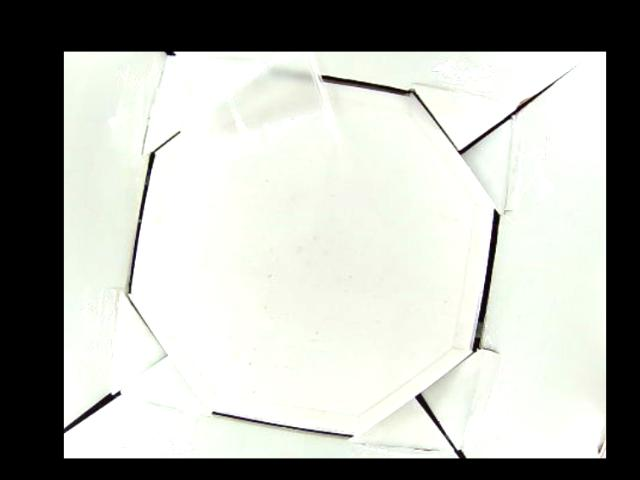Cup: (177, 52, 340, 166)
